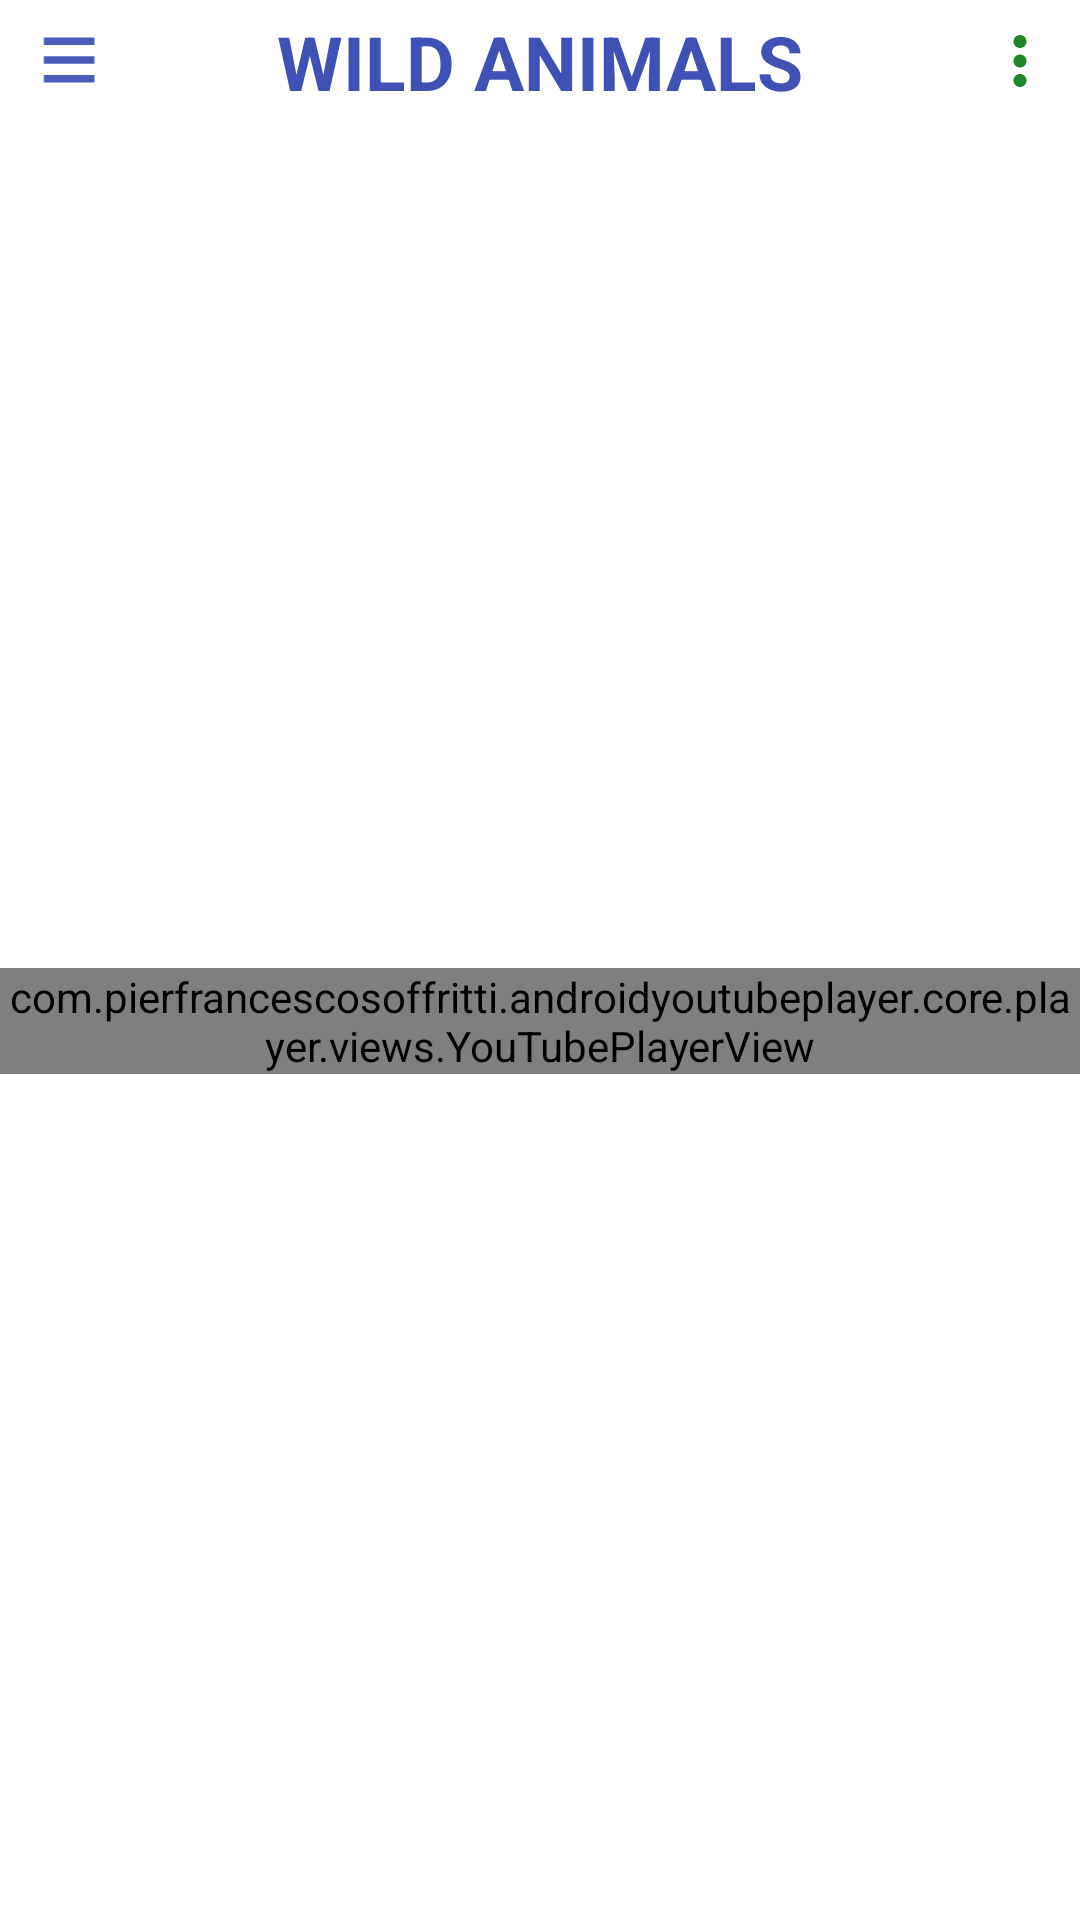

Where icons sit on this 1080 x 1920 app screen, as (x1, y1, x2, y2):
menu: (43, 37, 95, 83)
three dot: (1013, 35, 1027, 87)
